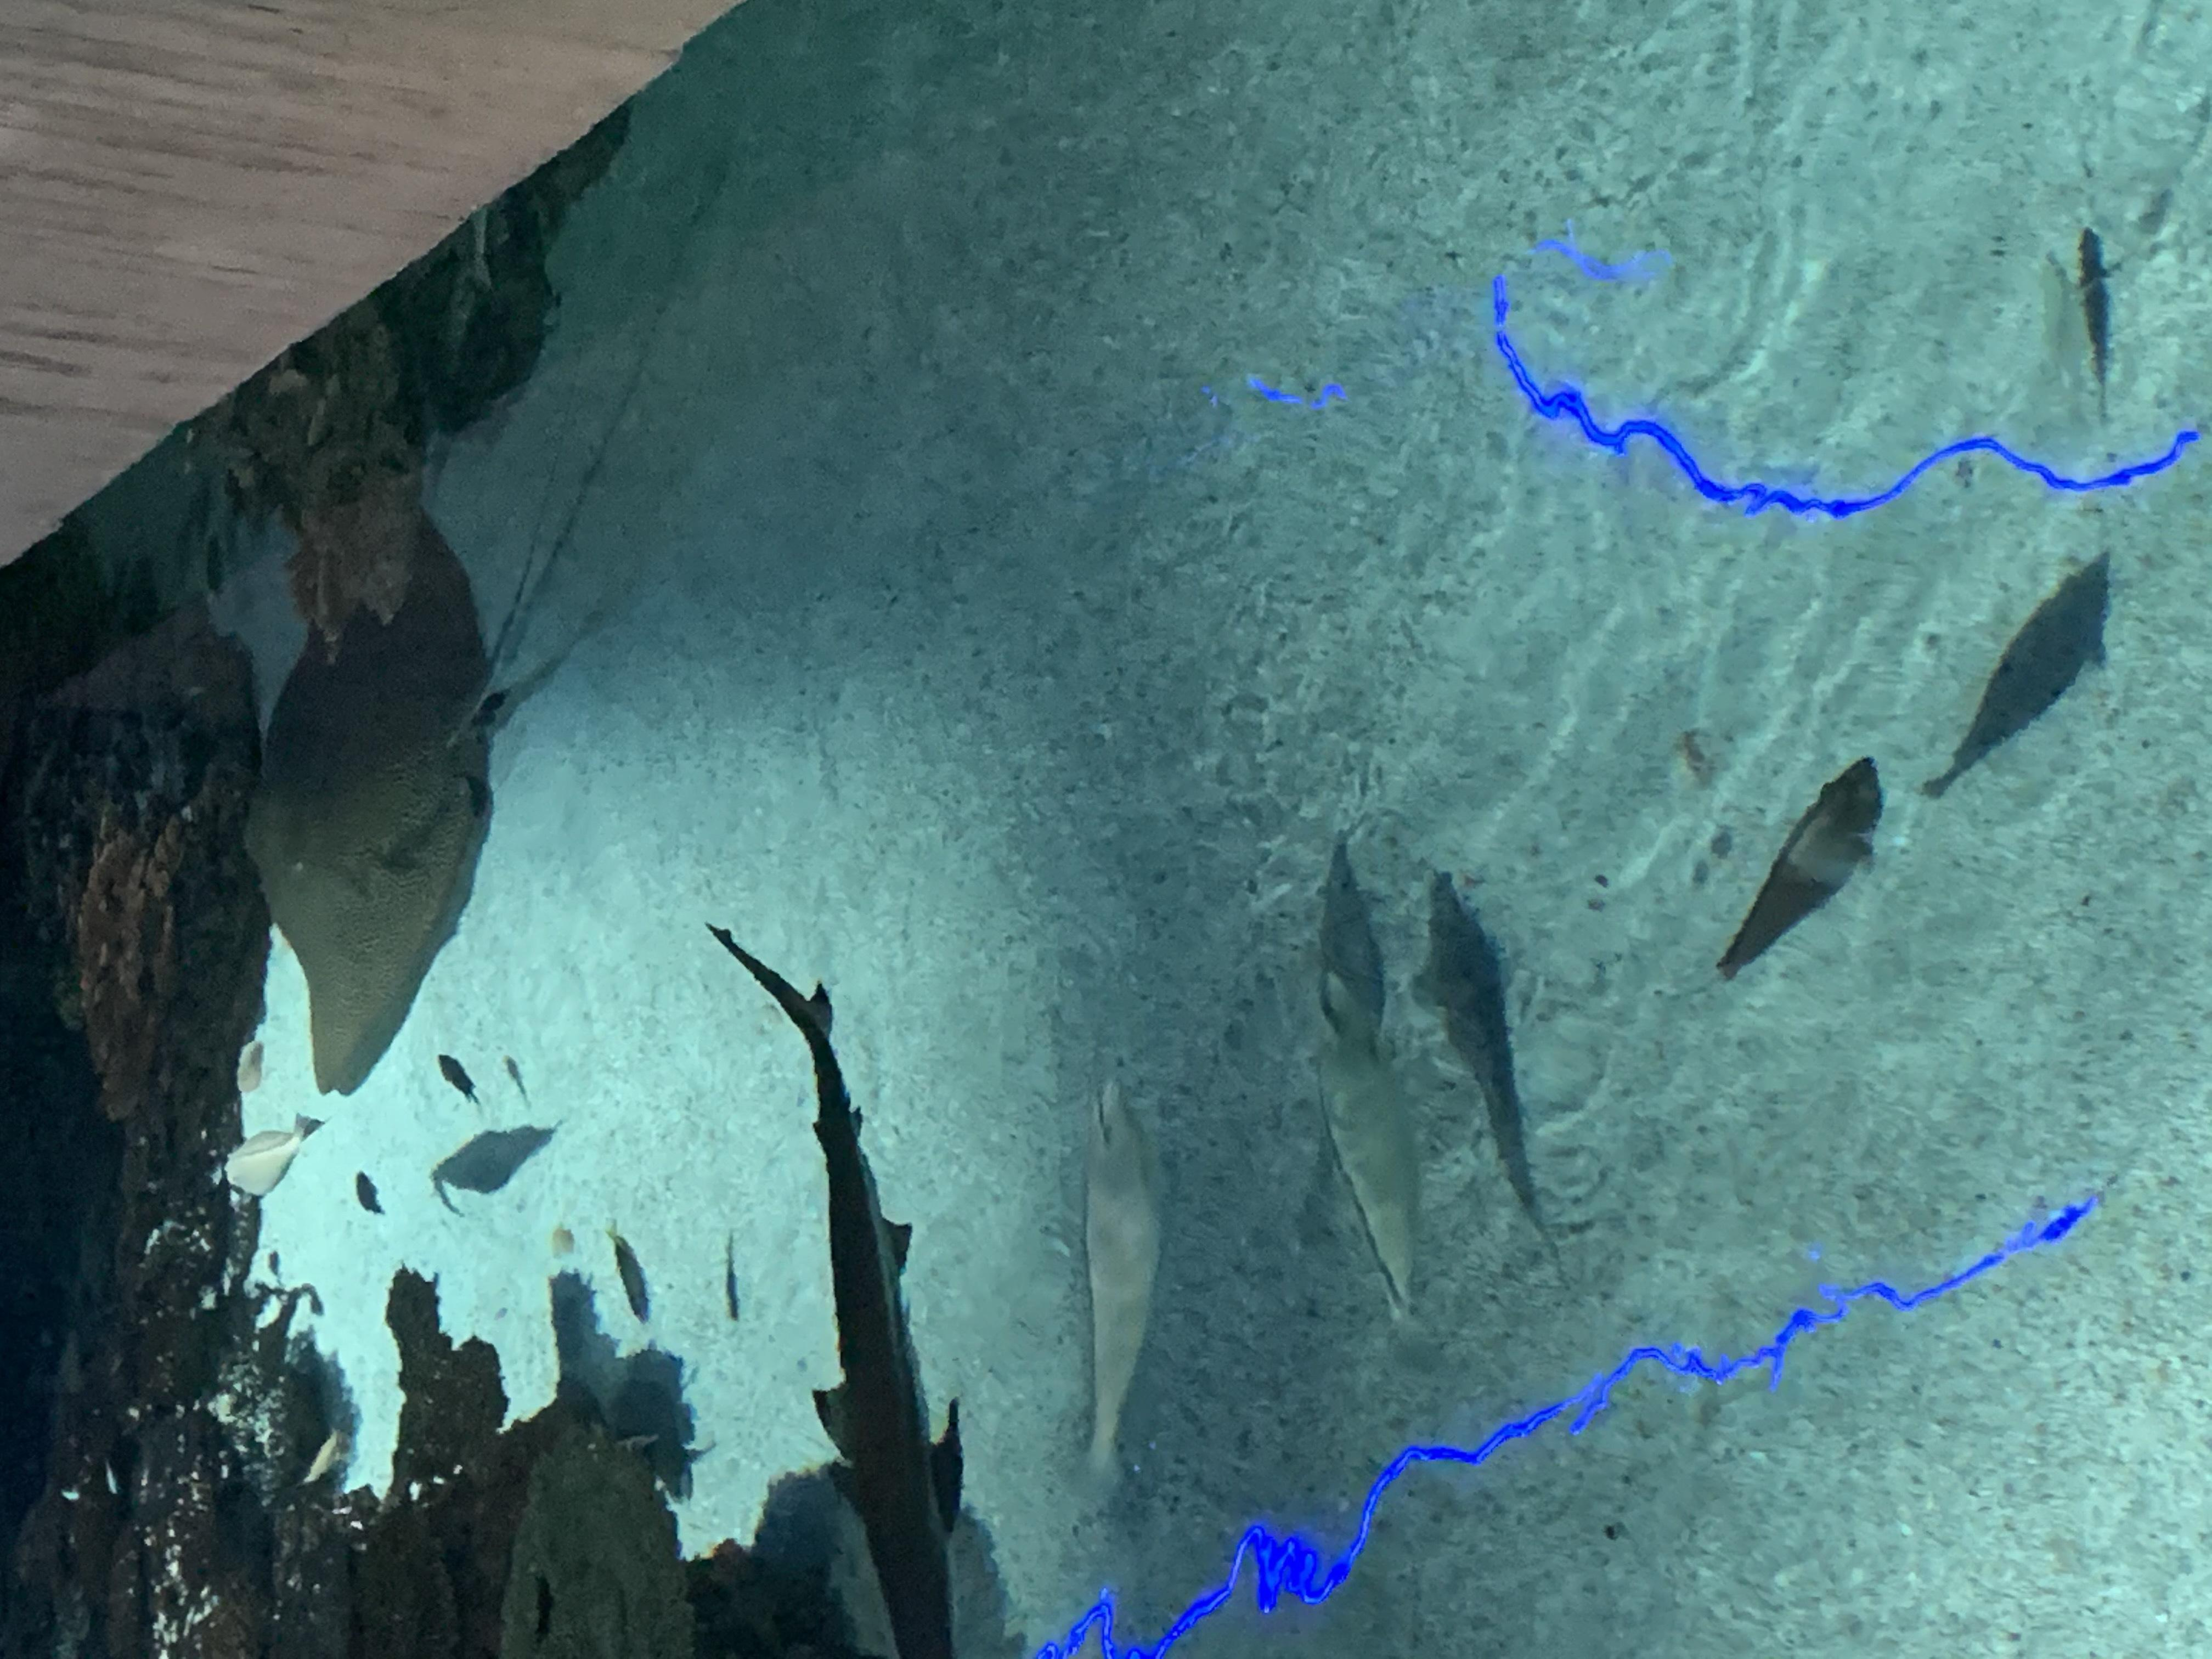fish: (1400, 864, 1581, 1274), (1271, 983, 1444, 1330), (1918, 544, 2134, 805), (1057, 1058, 1183, 1506), (1698, 756, 1900, 993), (1291, 821, 1411, 1206), (2067, 223, 2130, 410), (218, 1108, 326, 1206), (603, 1220, 655, 1331), (226, 1030, 273, 1108), (432, 1046, 479, 1112), (721, 1230, 752, 1326), (348, 1168, 383, 1223), (500, 1049, 528, 1105)
shark: (791, 976, 965, 1657)
stingray: (240, 509, 495, 1093)
